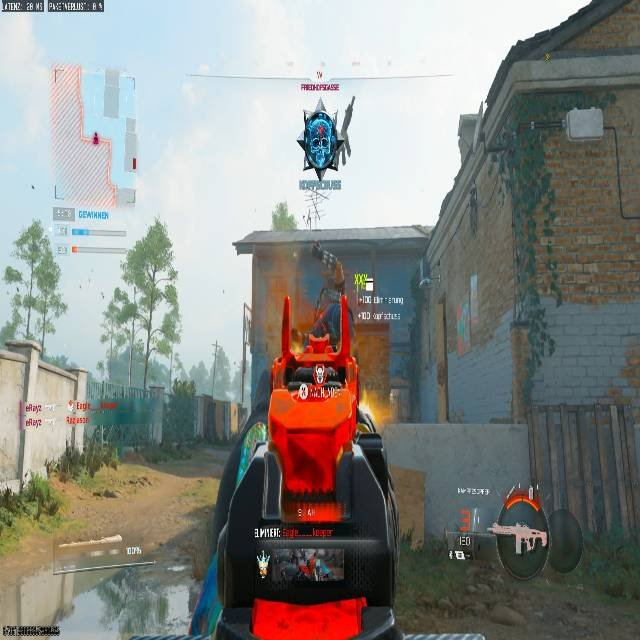player: (296, 110, 339, 179)
